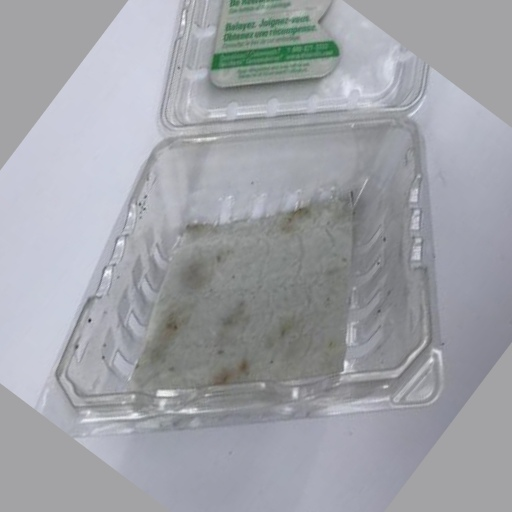Plastic_4: (59, 4, 449, 435)
